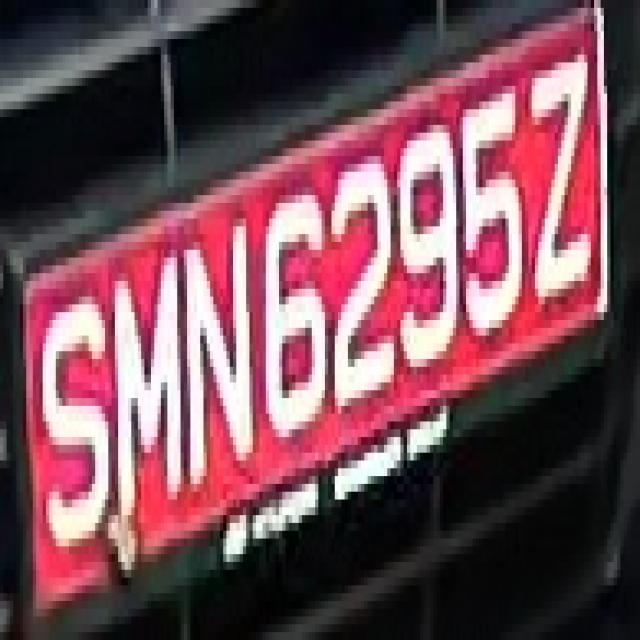2: (325, 148, 404, 422)
5: (449, 94, 528, 336)
6: (262, 187, 334, 453)
9: (387, 117, 473, 398)
M: (108, 242, 180, 531)
N: (181, 203, 256, 499)
S: (36, 265, 105, 570)
Z: (528, 39, 604, 312)
